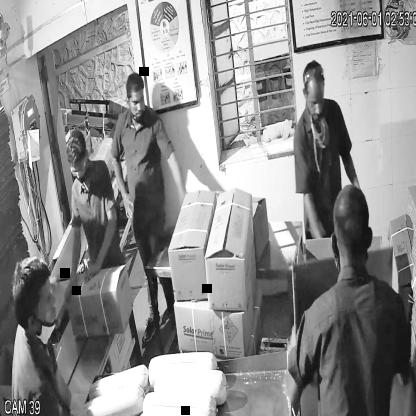goggles: (68, 153, 90, 181)
no_goggles: (301, 89, 328, 113)
